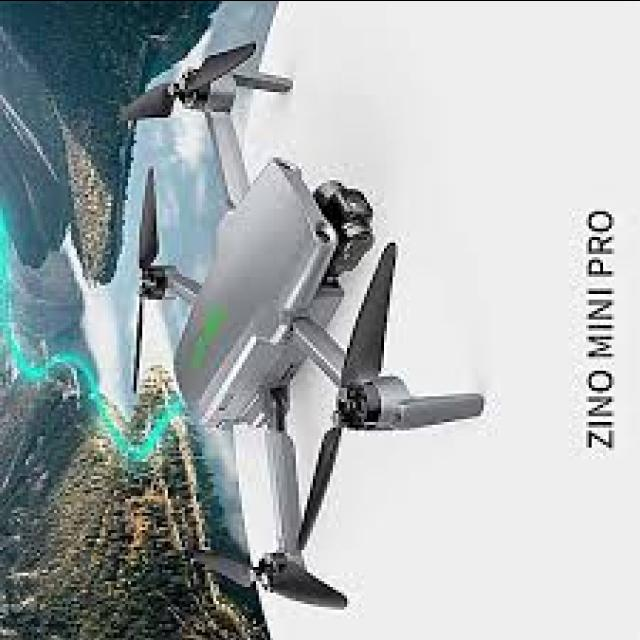drone: (114, 28, 486, 616)
